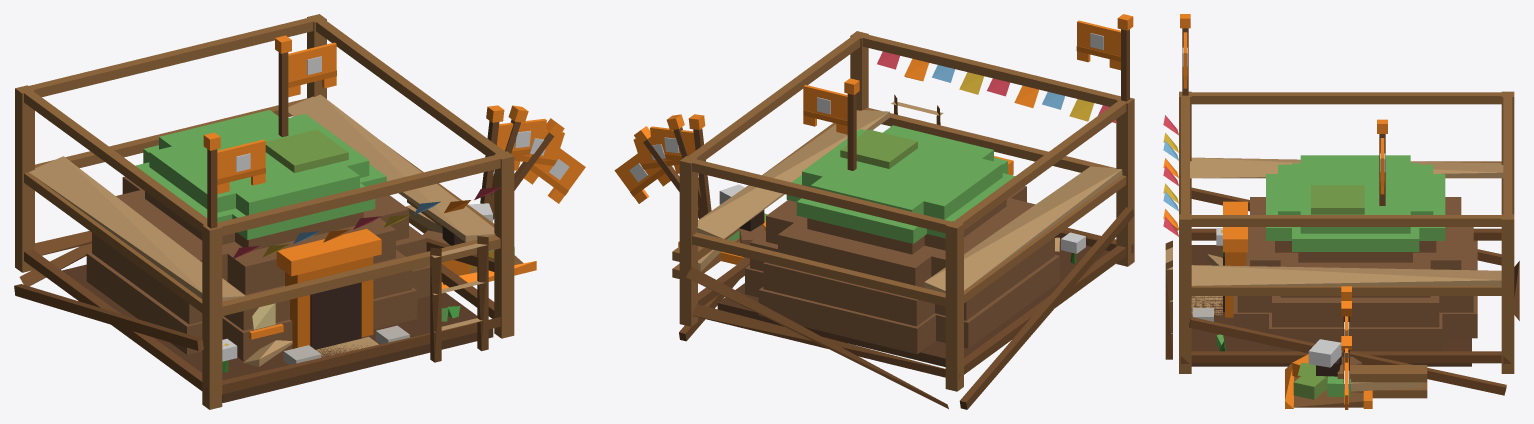
File: bumblebee-home.glb
The picture shows the model from 3 angles, left to right: view 1: azimuth 30°, elevation 25°; view 2: azimuth 150°, elevation 25°; view 3: azimuth 270°, elevation 25°; orthographic projection. The views are drawn at different scales.
Visible parts, largest first — view 1: scaffold-mesh, built-mesh, dismantle-75-mesh, dismantle-50-mesh, scaffold-banner, banner, dismantle-25-banner, dismantle-25-mesh, dismantle-75-banner, flag-pole, scaffold-flag-pole, dismantle-50-banner (+3 smaller); view 2: scaffold-mesh, built-mesh, dismantle-75-mesh, dismantle-50-mesh, banner, scaffold-banner, dismantle-25-banner, flag-pole, dismantle-75-banner, dismantle-50-banner, dismantle-25-mesh, scaffold-flag-pole (+3 smaller); view 3: scaffold-mesh, built-mesh, dismantle-50-mesh, dismantle-75-mesh, dismantle-25-mesh, flag-pole, scaffold-flag-pole.
Boxes of the visible parts, x1,y1,x2,y2 form: scaffold-mesh: (14, 14, 514, 409); built-mesh: (122, 110, 455, 402); dismantle-75-mesh: (87, 187, 536, 357); dismantle-50-mesh: (62, 245, 514, 380); scaffold-banner: (217, 139, 265, 194); banner: (288, 42, 336, 97); dismantle-25-banner: (524, 141, 585, 203); dismantle-25-mesh: (188, 203, 523, 365); dismantle-75-banner: (497, 118, 546, 158); flag-pole: (275, 35, 291, 137); scaffold-flag-pole: (203, 132, 220, 228); dismantle-50-banner: (513, 130, 564, 175); scaffold-mesh: (672, 31, 1134, 409); built-mesh: (758, 125, 1076, 354); dismantle-75-mesh: (678, 196, 1085, 366); dismantle-50-mesh: (717, 224, 1109, 365); banner: (803, 85, 847, 134); scaffold-banner: (1076, 20, 1120, 70); dismantle-25-banner: (614, 153, 670, 203); flag-pole: (844, 78, 859, 170); dismantle-75-banner: (650, 126, 695, 162); dismantle-50-banner: (633, 134, 680, 177); dismantle-25-mesh: (718, 184, 1074, 365); scaffold-flag-pole: (1117, 14, 1133, 101); scaffold-mesh: (1163, 91, 1519, 398); built-mesh: (1217, 155, 1461, 350); dismantle-50-mesh: (1191, 235, 1477, 407); dismantle-75-mesh: (1206, 228, 1477, 408); dismantle-25-mesh: (1207, 254, 1477, 406); flag-pole: (1377, 119, 1387, 205); scaffold-flag-pole: (1180, 14, 1190, 95).
Size of the model in its own units: 2.65 by 1.55 by 1.99.
